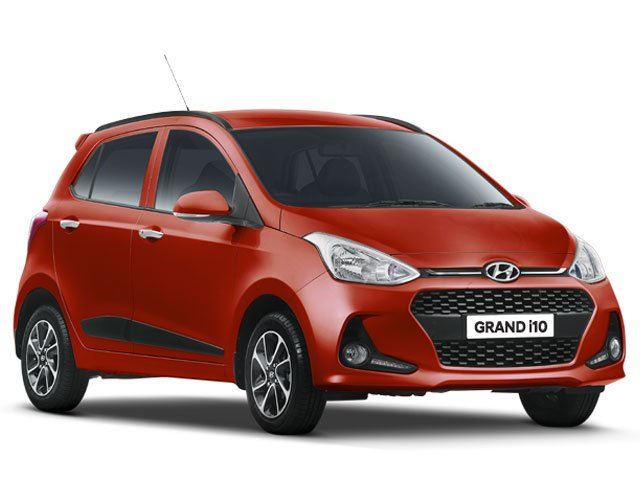car: (25, 101, 620, 431)
